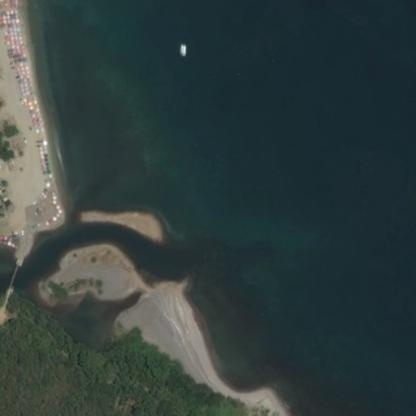ship: (172, 36, 194, 62)
